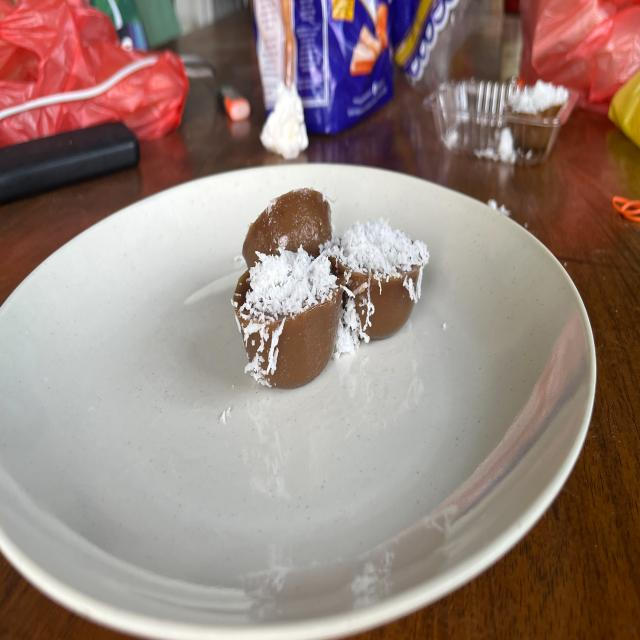Kuih lompang: (232, 247, 342, 389), (321, 218, 429, 351), (242, 189, 331, 269)
